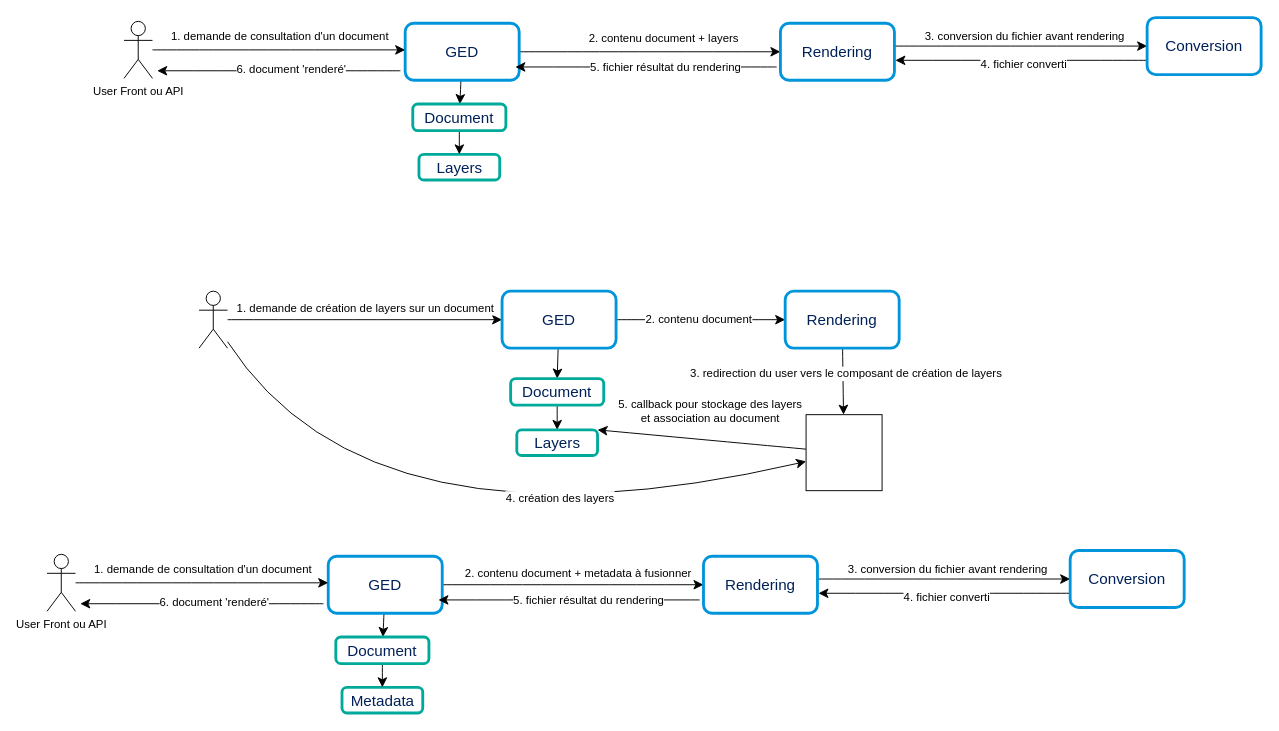
Some shapes in this 1279 by 731 pixel diagram are drawn without their labels. The centre of each missing label's shape, as x and y in pixels:
Composant de création de layers: the point at 843,452
User Front: the point at 213,319
